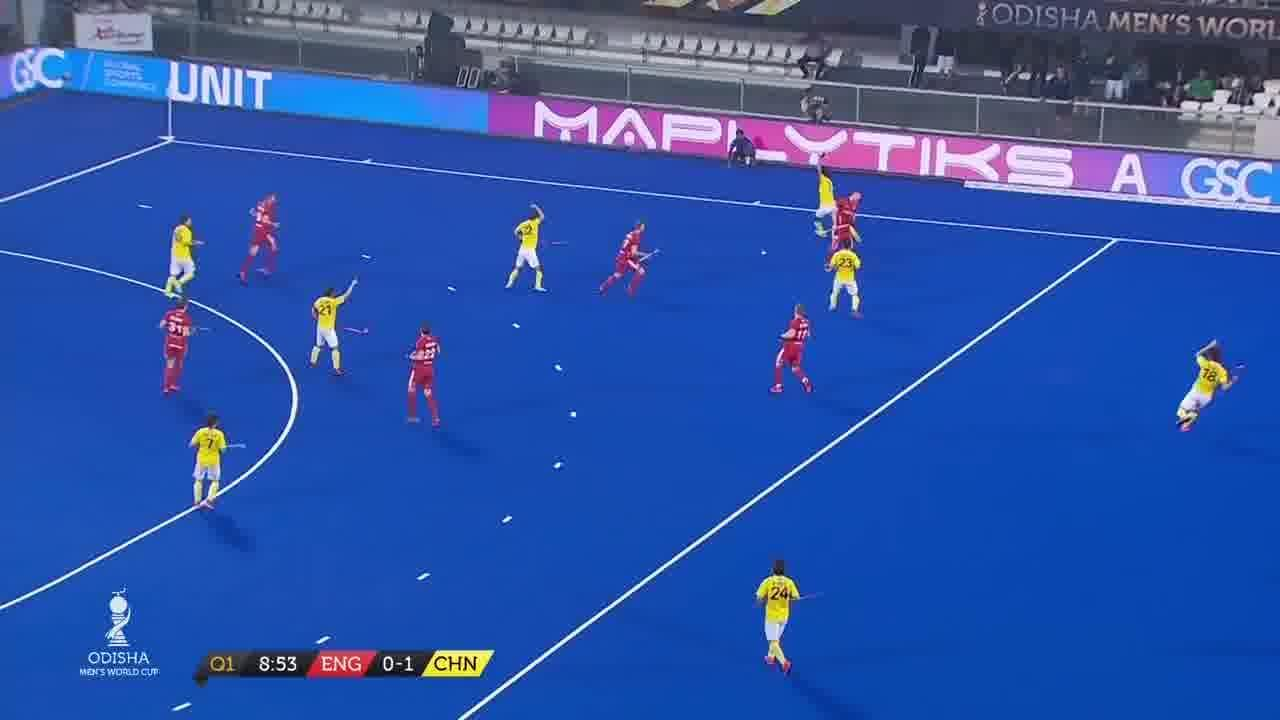ball: (759, 247, 768, 261)
